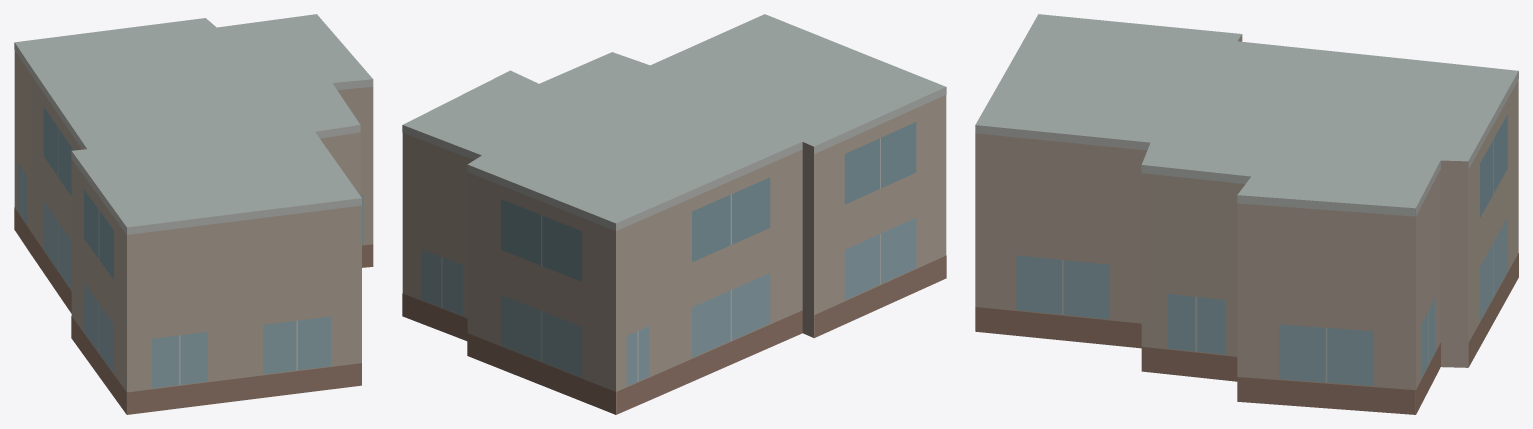
Rendered from survey-upis-33023150.glb.
The picture shows the model from 3 angles, left to right: view 1: azimuth 30°, elevation 25°; view 2: azimuth 150°, elevation 25°; view 3: azimuth 270°, elevation 25°; orthographic projection. The views are drawn at different scales.
Parts seen in each view (by area): view 1: survey-upis-33023150.tmp; view 2: survey-upis-33023150.tmp; view 3: survey-upis-33023150.tmp.
Part boxes in pixels (<box>): survey-upis-33023150.tmp: <box>14,14,373,414</box>; survey-upis-33023150.tmp: <box>402,14,946,414</box>; survey-upis-33023150.tmp: <box>975,14,1518,414</box>.
Size of the model in its own units: 12.31 by 6.1 by 14.56.
